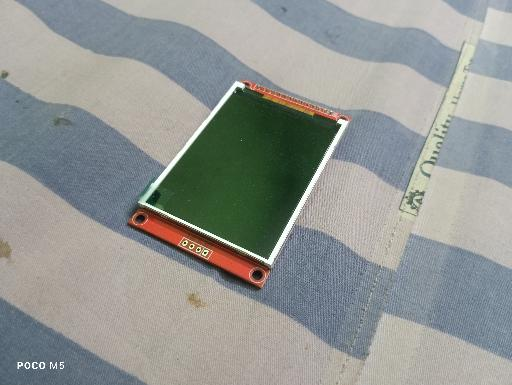Display: (125, 77, 353, 293)
